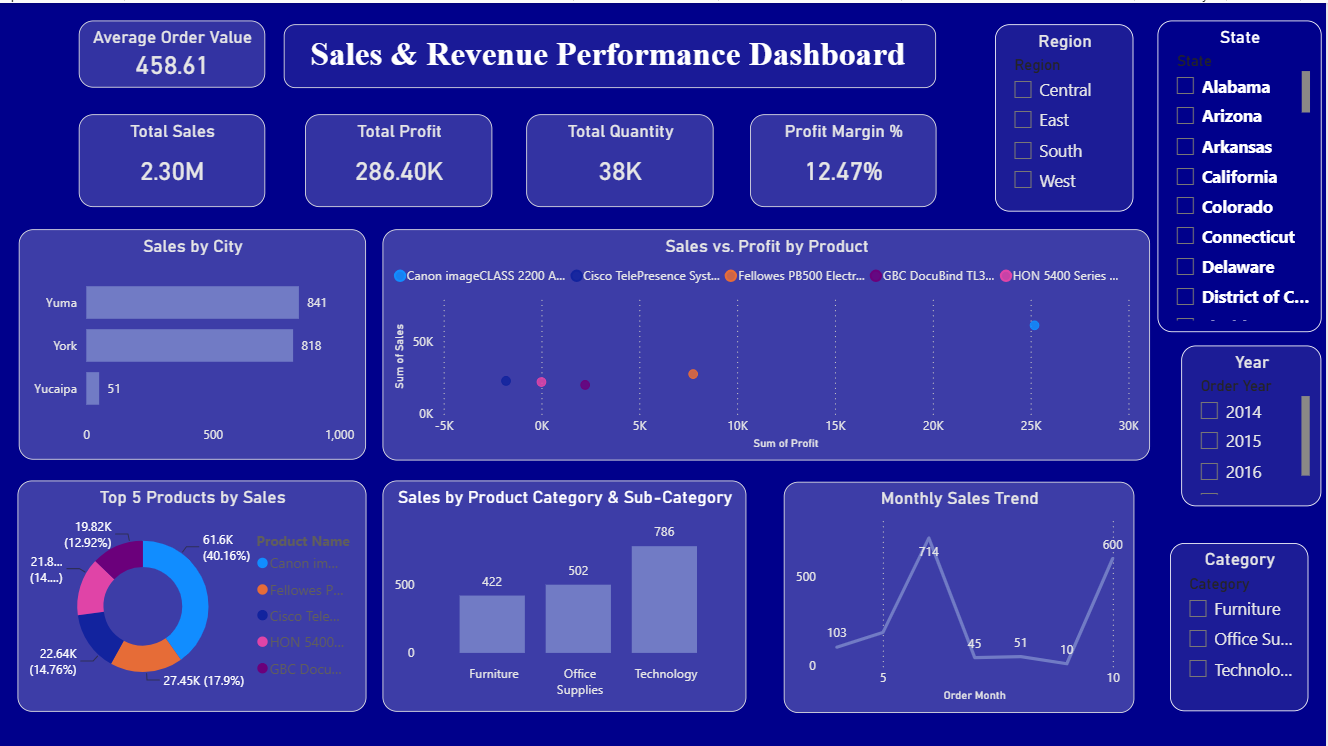

This screenshot's page, from the dashboard's own definition file:
{"tool":"powerbi","page":{"name":"Page 1","canvas":[1280,720],"ordinal":0},"visuals":[{"type":"card","title":"Total Sales","fields":{"Values":["Sum(Sample - Superstore.Sales)"]},"box":[76,107.4,179.8,89.3],"z":0},{"type":"card","title":"Total Profit","fields":{"Values":["Sum(Sample - Superstore.Profit)"]},"box":[294.4,107.4,181,89.3],"z":1000},{"type":"card","title":"Total Quantity","fields":{"Values":["Sum(Sample - Superstore.Quantity)"]},"box":[507.9,107.4,181,89.3],"z":2000},{"type":"card","title":"Average Order Value","fields":{"Values":["Sample - Superstore.Average Order Value"]},"box":[76,16.9,179.8,65.1],"z":3000},{"type":"card","title":"Profit Margin %","fields":{"Values":["Sample - Superstore.Profit Margin"]},"box":[723.9,107.4,179.8,89.3],"z":4000},{"type":"barChart","title":"Sales by City","fields":{"Category":["Sample - Superstore.City"],"Y":["Sum(Sample - Superstore.Sales)"]},"box":[18.3,218.7,335,222.5],"z":5000},{"type":"donutChart","title":"Top 5 Products by Sales","fields":{"Category":["Sample - Superstore.Product Name"],"Y":["Sum(Sample - Superstore.Sales)"]},"box":[16.9,460.9,336.6,223.2],"z":6000},{"type":"clusteredColumnChart","title":"Sales by Product Category & Sub-Category","fields":{"Category":["Sample - Superstore.Category","Sample - Superstore.Sub-Category"],"Y":["Sum(Sample - Superstore.Sales)"]},"box":[369.2,460.9,351.1,223.2],"z":7000},{"type":"lineChart","title":"Monthly Sales Trend","fields":{"Category":["Sample - Superstore.Order Month"],"Y":["Sum(Sample - Superstore.Sales)"]},"box":[756.4,462.1,338.4,223.1],"z":8000},{"type":"slicer","title":"Year","fields":{"Values":["Sample - Superstore.Order Year"]},"box":[1140.1,330.6,135.1,154.9],"z":9000},{"type":"slicer","title":"Region","fields":{"Values":["Sample - Superstore.Region"]},"box":[960.3,20.5,133.9,181],"z":11000},{"type":"slicer","title":"Category","fields":{"Values":["Sample - Superstore.Category"]},"box":[1129,521,133.9,162.4],"z":12000},{"type":"scatterChart","title":"Sales vs. Profit by Product","fields":{"Series":["Sample - Superstore.Product Name"],"X":["Sum(Sample - Superstore.Profit)"],"Y":["Sum(Sample - Superstore.Sales)"]},"box":[369.2,218.4,740.8,223.2],"z":13000},{"type":"textbox","box":[273.9,20.5,629.8,61.5],"z":14000},{"type":"slicer","title":"State","fields":{"Values":["Sample - Superstore.State"]},"box":[1117.2,16.9,158,300.4],"z":14001}]}

Visuals, with their boxes in screenshot pixels (x1, y1, x2, y2), scaled from the page's 1280x720 canvas onto the 1328x746 screenshot:
"Total Sales" card: l=79, t=111, r=265, b=204
"Total Profit" card: l=305, t=111, r=493, b=204
"Total Quantity" card: l=527, t=111, r=715, b=204
"Average Order Value" card: l=79, t=18, r=265, b=85
"Profit Margin %" card: l=751, t=111, r=938, b=204
"Sales by City" barChart: l=19, t=227, r=367, b=457
"Top 5 Products by Sales" donutChart: l=18, t=478, r=367, b=709
"Sales by Product Category & Sub-Category" clusteredColumnChart: l=383, t=478, r=747, b=709
"Monthly Sales Trend" lineChart: l=785, t=479, r=1136, b=710
"Year" slicer: l=1183, t=343, r=1323, b=503
"Region" slicer: l=996, t=21, r=1135, b=209
"Category" slicer: l=1171, t=540, r=1310, b=708
"Sales vs. Profit by Product" scatterChart: l=383, t=226, r=1152, b=458
textbox: l=284, t=21, r=938, b=85
"State" slicer: l=1159, t=18, r=1323, b=329
